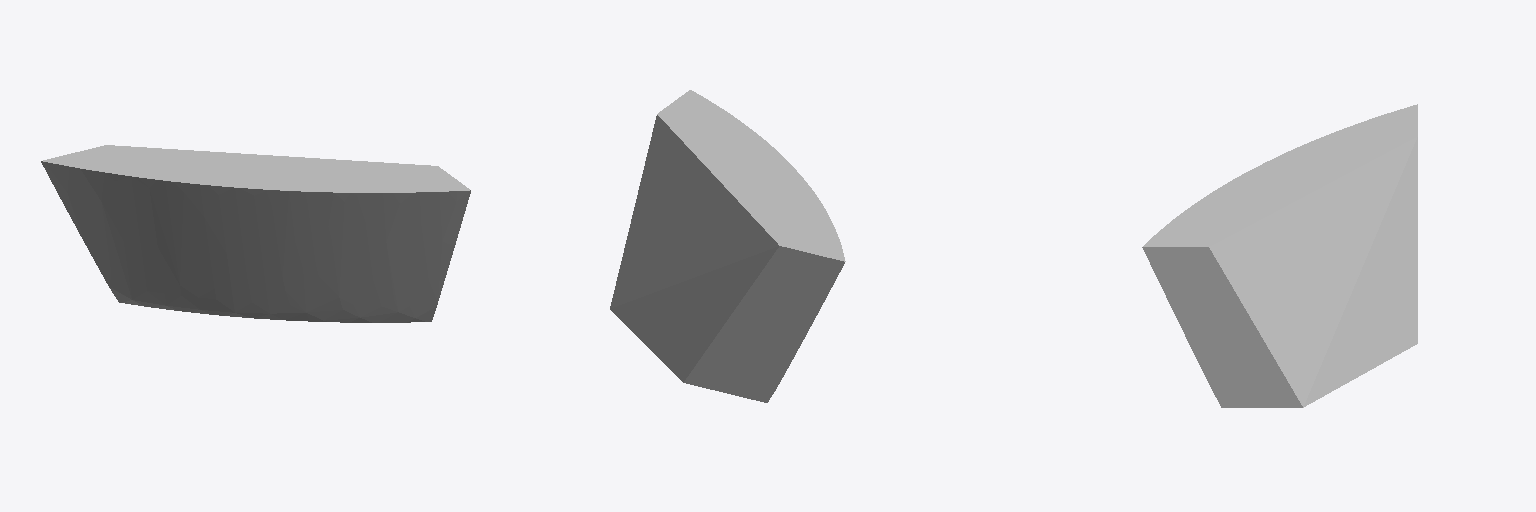
File: skillet_collision_30.obj
3 renders of one model, left to right at view 1: azimuth 30°, elevation 25°; view 2: azimuth 150°, elevation 25°; view 3: azimuth 270°, elevation 25°, orthographic.
Size of the model in its own units: 0.0433 by 0.0227 by 0.0353.